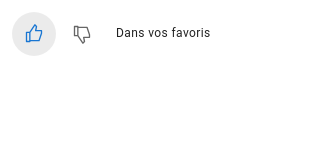
Test case: restaure le vote puis permet de le remplacer et de le retirer
This screenshot has width=332, height=160.
Step 1. Click the button named "Je n’aime pas" → (82, 34), box left=60, top=12, right=104, bottom=56
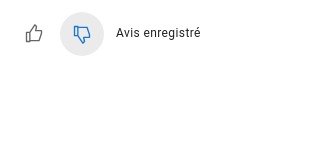
Result: the button named "Je n’aime pas" is pressed
Result: the button named "J’aime" is not pressed at left=12, top=12, right=56, bottom=56
Step 2. Click the button named "Je n’aime pas" → (82, 34), box left=60, top=12, right=104, bottom=56
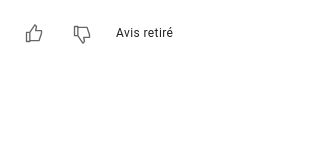
Result: the button named "Je n’aime pas" is not pressed at left=60, top=12, right=104, bottom=56
